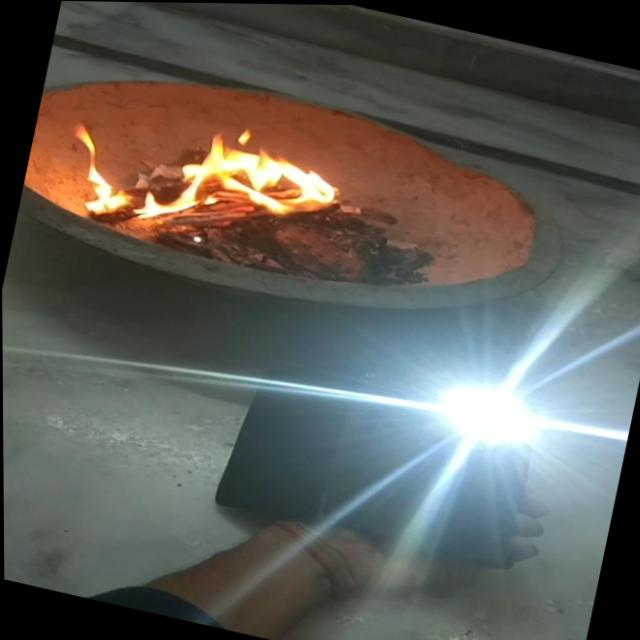fire: (51, 89, 352, 268)
